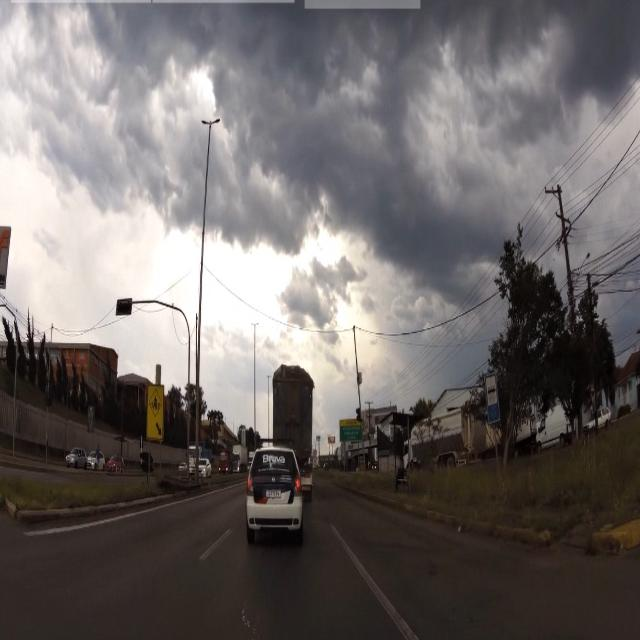A-52: (147, 381, 165, 440)
S-14: (483, 371, 504, 429)
